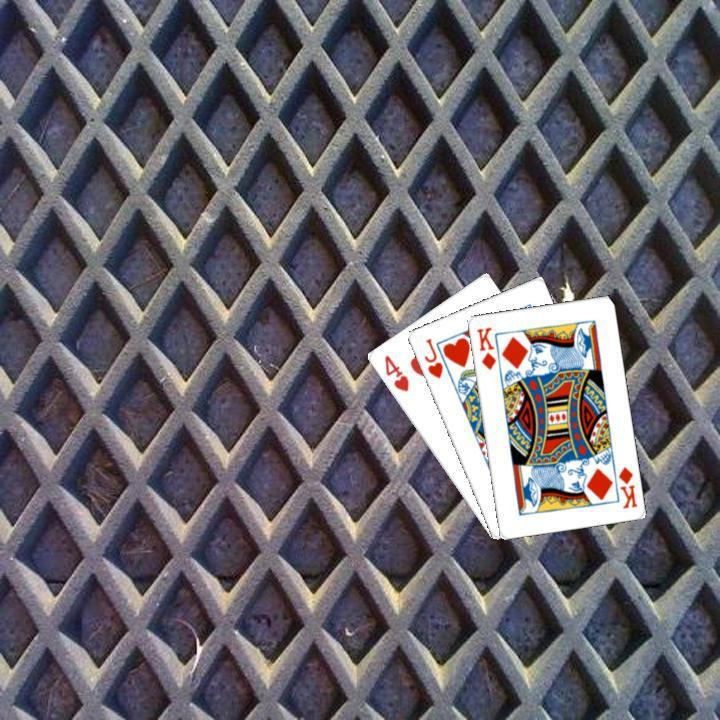4: (379, 351, 411, 394)
J: (419, 334, 445, 380)
K: (472, 322, 498, 372), (614, 462, 639, 510)
